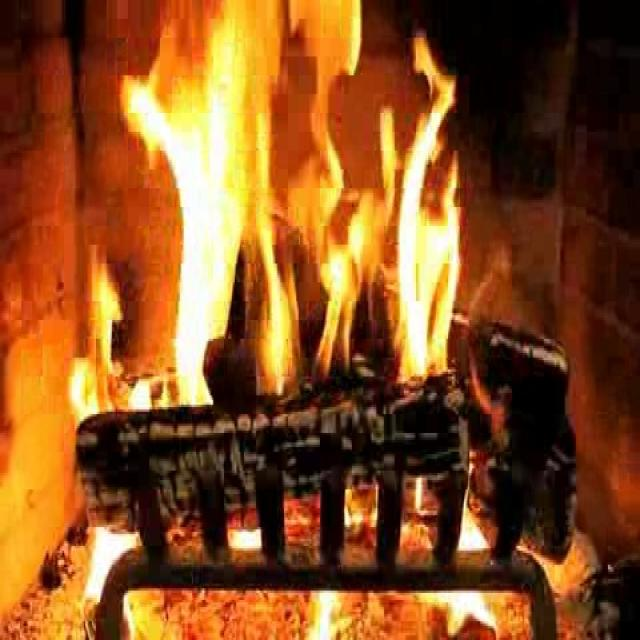fire: (121, 10, 473, 412)
